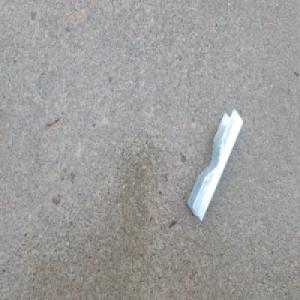ClampPart: (187, 108, 244, 223)
